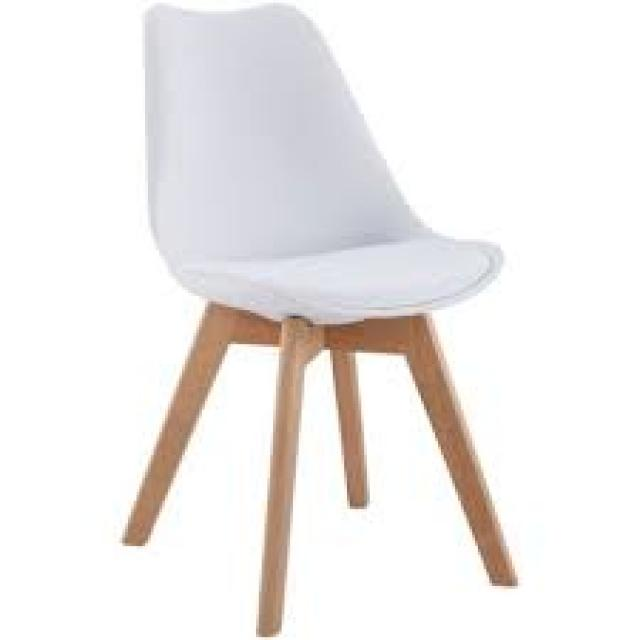chair: (74, 0, 536, 640)
